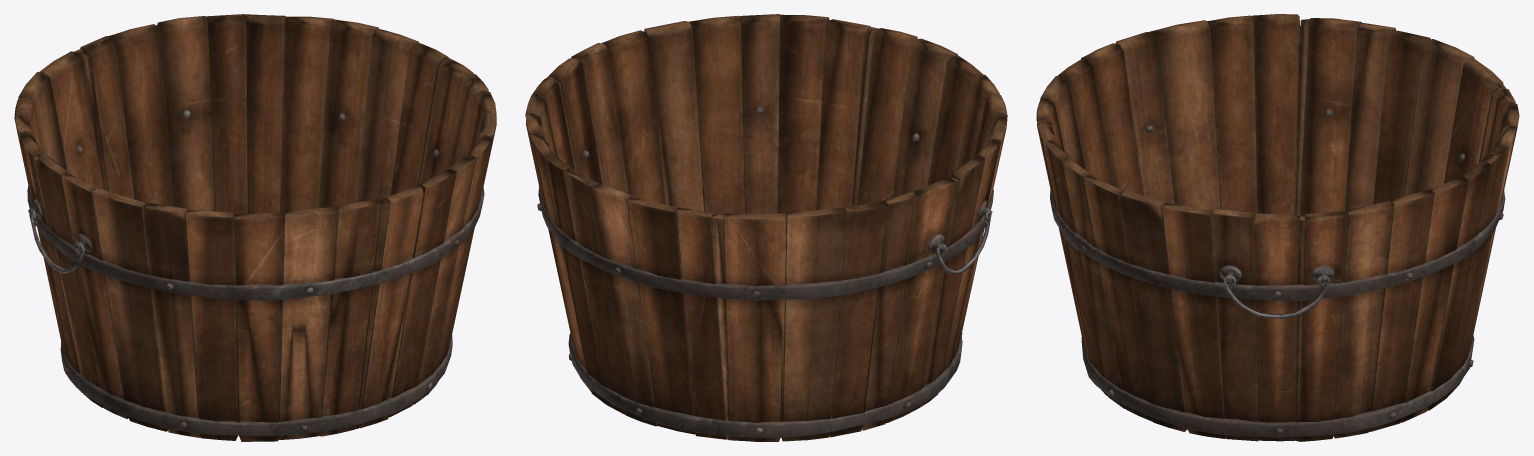
The model's file is wooden_bucket_02.glb.
The picture shows the model from 3 angles, left to right: view 1: azimuth 30°, elevation 25°; view 2: azimuth 150°, elevation 25°; view 3: azimuth 270°, elevation 25°; orthographic projection.
Visible parts, largest first — view 1: wooden_bucket_02; view 2: wooden_bucket_02; view 3: wooden_bucket_02.
Part boxes in pixels (x1=…): wooden_bucket_02: x1=14, y1=14, x2=496, y2=441; wooden_bucket_02: x1=525, y1=14, x2=1007, y2=441; wooden_bucket_02: x1=1036, y1=14, x2=1519, y2=441.
Bounding box in the file's own units: 0.6143 × 0.3504 × 0.6163.
Materials: 1 (1 with a texture image).
